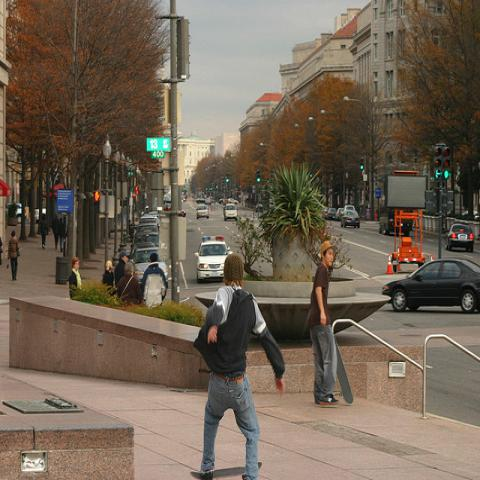car: (381, 258, 479, 314), (194, 235, 234, 284), (130, 247, 170, 288), (444, 222, 474, 253), (135, 221, 159, 247), (130, 241, 158, 261), (341, 210, 360, 229), (139, 214, 160, 228), (224, 203, 238, 221), (196, 206, 209, 220), (327, 206, 337, 218), (336, 208, 344, 222), (344, 204, 356, 211)
